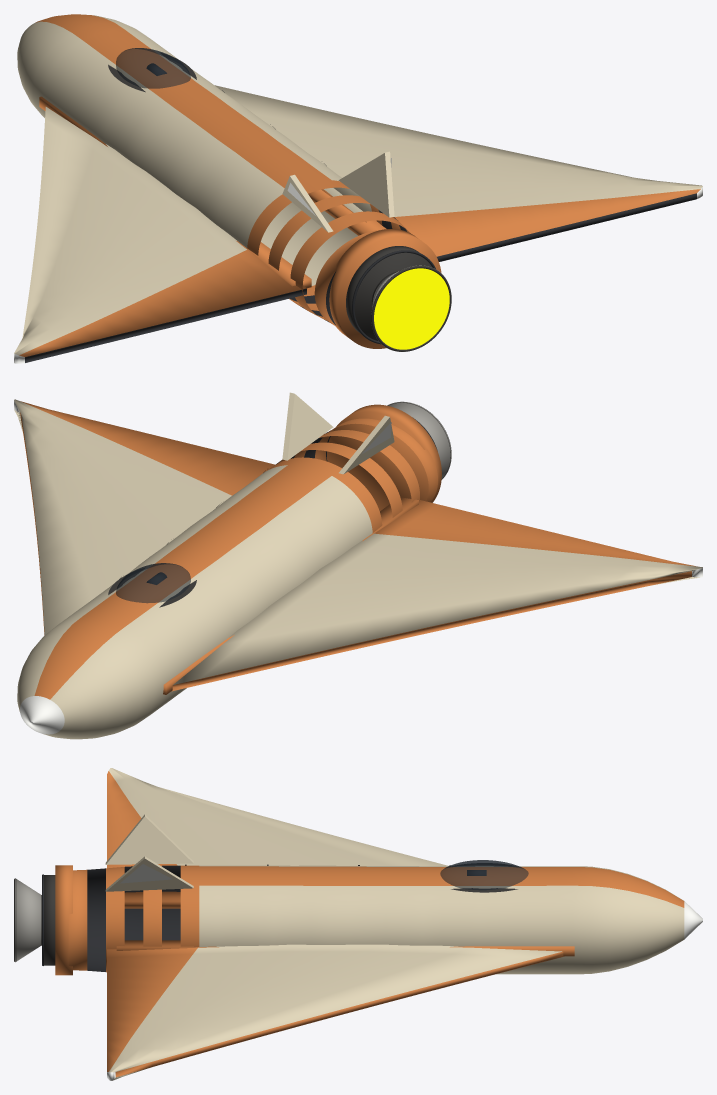
The model's file is Ship_Longwing_10.glb.
The picture shows the model from 3 angles, top to bottom: view 1: azimuth 30°, elevation 25°; view 2: azimuth 150°, elevation 25°; view 3: azimuth 270°, elevation 25°; orthographic projection. The views are drawn at different scales.
Visible parts, largest first — view 1: Fuselage_OrganicEllipsoidTaperedBody_BakedPaint, Wing_Left_LongDeltaAerofoil_BakedPaint, Wing_Right_LongDeltaAerofoil_BakedPaint, EngineEmitter, AftCollar_IntegratedSingleEngineBand, EngineBlock_AftDarkSingleEngineHousing, CanopyGlass_LowInsetDome, TailFin_Right_CantedStabilizer, WingRoot_Left_EmbeddedShoulder, TailFin_Left_CantedStabilizer, WingRoot_Right_EmbeddedShoulder, EngineLip_Center_DarkWideRim (+1 smaller); view 2: Fuselage_OrganicEllipsoidTaperedBody_BakedPaint, Wing_Left_LongDeltaAerofoil_BakedPaint, Wing_Right_LongDeltaAerofoil_BakedPaint, AftCollar_IntegratedSingleEngineBand, CanopyGlass_LowInsetDome, TailFin_Right_CantedStabilizer, EngineBell_Center_BroadBurnishedNozzle, WingRoot_Left_EmbeddedShoulder, TailFin_Left_CantedStabilizer; view 3: Fuselage_OrganicEllipsoidTaperedBody_BakedPaint, Wing_Right_LongDeltaAerofoil_BakedPaint, Wing_Left_LongDeltaAerofoil_BakedPaint, TailFin_Left_CantedStabilizer, CanopyGlass_LowInsetDome, EngineBell_Center_BroadBurnishedNozzle, AftCollar_IntegratedSingleEngineBand, TailFin_Right_CantedStabilizer, WingRoot_Right_EmbeddedShoulder, EngineBlock_AftDarkSingleEngineHousing, WingRoot_Left_EmbeddedShoulder, TailFin_Right_BakedTrimPatch.
Boxes of the visible parts, left/top/right/bottom form: Fuselage_OrganicEllipsoidTaperedBody_BakedPaint: left=17, top=14, right=409, bottom=326; Wing_Left_LongDeltaAerofoil_BakedPaint: left=14, top=107, right=306, bottom=363; Wing_Right_LongDeltaAerofoil_BakedPaint: left=215, top=85, right=702, bottom=261; EngineEmitter: left=374, top=268, right=449, bottom=349; AftCollar_IntegratedSingleEngineBand: left=329, top=229, right=441, bottom=348; EngineBlock_AftDarkSingleEngineHousing: left=346, top=246, right=432, bottom=340; CanopyGlass_LowInsetDome: left=116, top=48, right=190, bottom=88; TailFin_Right_CantedStabilizer: left=338, top=151, right=394, bottom=217; WingRoot_Left_EmbeddedShoulder: left=39, top=96, right=311, bottom=288; TailFin_Left_CantedStabilizer: left=282, top=174, right=333, bottom=232; WingRoot_Right_EmbeddedShoulder: left=308, top=189, right=386, bottom=235; EngineLip_Center_DarkWideRim: left=371, top=265, right=451, bottom=351; Fuselage_OrganicEllipsoidTaperedBody_BakedPaint: left=17, top=418, right=437, bottom=739; Wing_Left_LongDeltaAerofoil_BakedPaint: left=172, top=500, right=702, bottom=691; Wing_Right_LongDeltaAerofoil_BakedPaint: left=14, top=399, right=274, bottom=635; AftCollar_IntegratedSingleEngineBand: left=327, top=404, right=441, bottom=511; CanopyGlass_LowInsetDome: left=116, top=563, right=190, bottom=603; TailFin_Right_CantedStabilizer: left=282, top=392, right=333, bottom=460; EngineBell_Center_BroadBurnishedNozzle: left=387, top=401, right=451, bottom=479; WingRoot_Left_EmbeddedShoulder: left=163, top=497, right=418, bottom=694; TailFin_Left_CantedStabilizer: left=339, top=415, right=394, bottom=474; Fuselage_OrganicEllipsoidTaperedBody_BakedPaint: left=68, top=865, right=702, bottom=974; Wing_Right_LongDeltaAerofoil_BakedPaint: left=107, top=944, right=564, bottom=1080; Wing_Left_LongDeltaAerofoil_BakedPaint: left=107, top=768, right=448, bottom=868; TailFin_Left_CantedStabilizer: left=105, top=814, right=193, bottom=864; CanopyGlass_LowInsetDome: left=440, top=860, right=528, bottom=890; EngineBell_Center_BroadBurnishedNozzle: left=15, top=878, right=41, bottom=961; AftCollar_IntegratedSingleEngineBand: left=55, top=865, right=72, bottom=975; TailFin_Right_CantedStabilizer: left=105, top=856, right=193, bottom=891; WingRoot_Right_EmbeddedShoulder: left=116, top=940, right=574, bottom=956; EngineBlock_AftDarkSingleEngineHousing: left=44, top=875, right=55, bottom=965; WingRoot_Left_EmbeddedShoulder: left=124, top=891, right=180, bottom=908; TailFin_Right_BakedTrimPatch: left=120, top=864, right=172, bottom=883.
Size of the model in its own units: 7.3 by 1.5 by 6.99.
